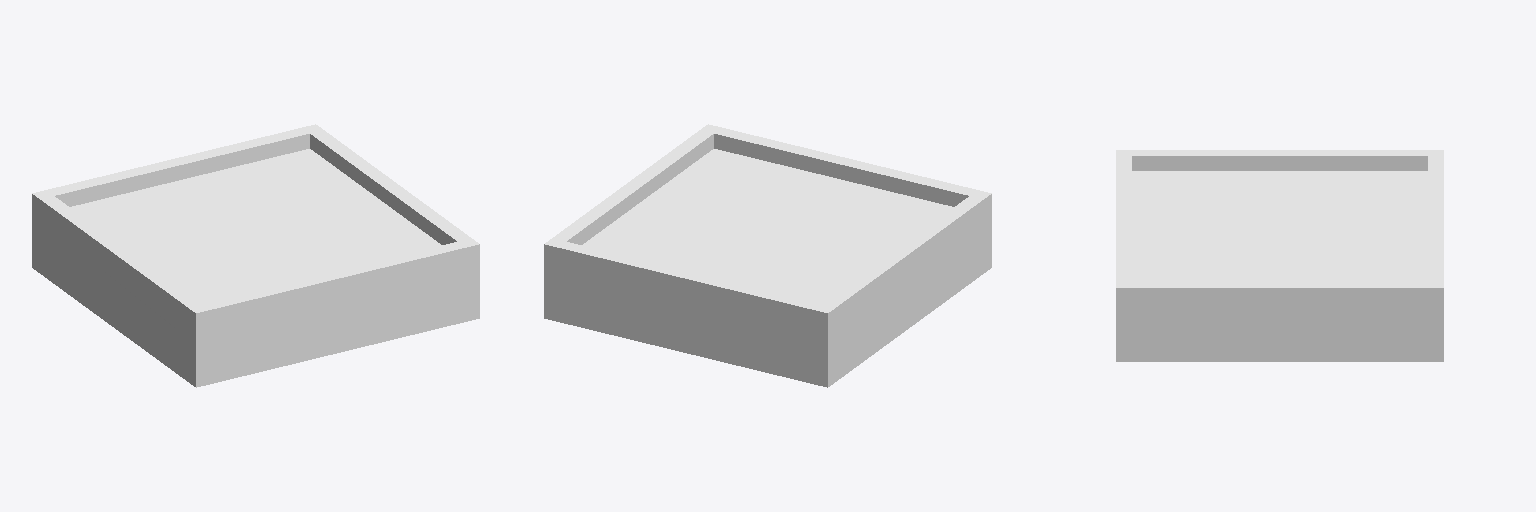
File: cubito_lava_lento.obj
3 views of the same model, side by side, from view 1: azimuth 30°, elevation 25°; view 2: azimuth 150°, elevation 25°; view 3: azimuth 270°, elevation 25° (orthographic).
Visible parts, largest first — view 1: object 1; view 2: object 1; view 3: object 1.
Part boxes in pixels (x1,y1,x2,y2): object 1: (32,124,479,387); object 1: (544,124,991,387); object 1: (1116,150,1443,361).
Bounding box in the file's own units: 4 × 1 × 4.